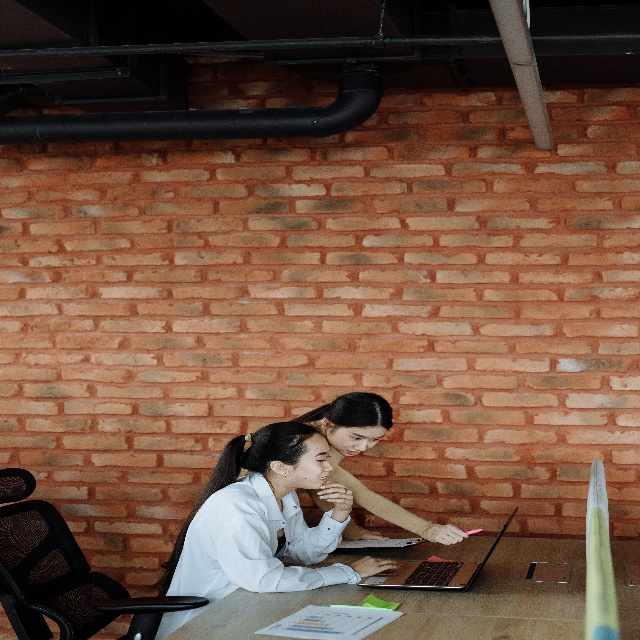Sin_guantes: (348, 553, 402, 579), (316, 479, 354, 515), (430, 523, 469, 547), (359, 529, 391, 542)
